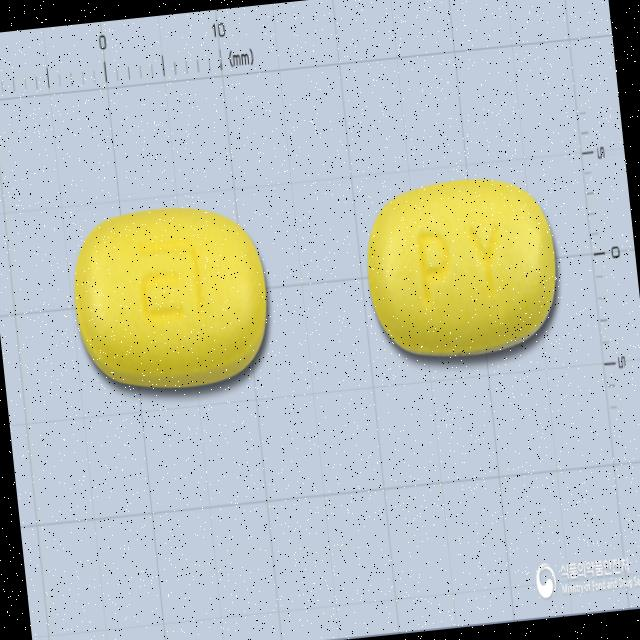Pilocin Tab: (65, 199, 275, 398), (360, 173, 566, 365)
